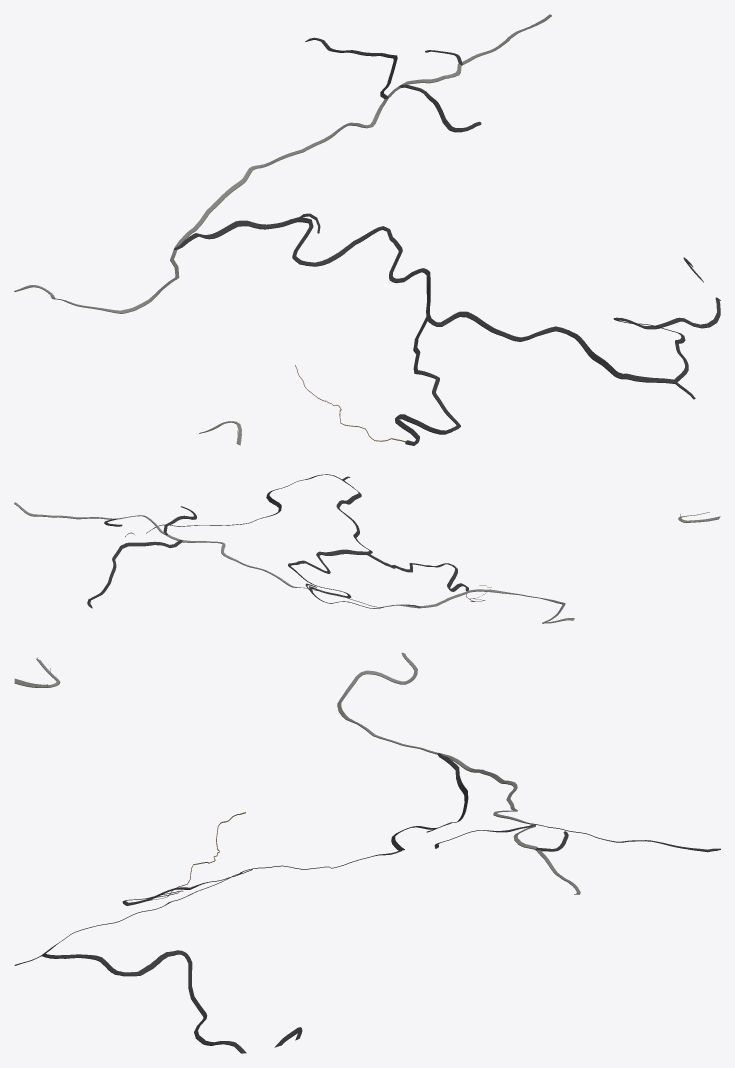
The picture shows the model from 3 angles, top to bottom: view 1: azimuth 30°, elevation 25°; view 2: azimuth 150°, elevation 25°; view 3: azimuth 270°, elevation 25°; orthographic projection. The views are drawn at different scales.
Size of the model in its own units: 1175 by 331 by 1168.
